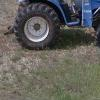Tractor: (9, 0, 100, 64)
